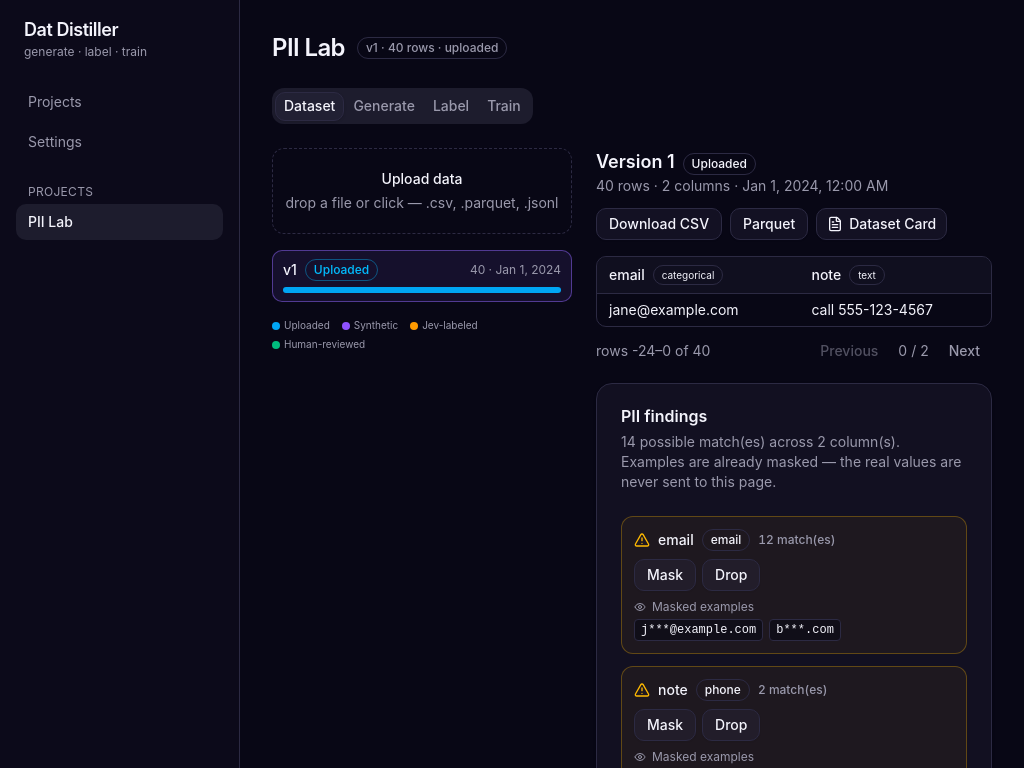
Test: PiiPanel — mask and drop › explains what dropping will do before it does it
Click the button "Drop" below "phone": (731, 725) [702,709,760,741]
(page scrolled)
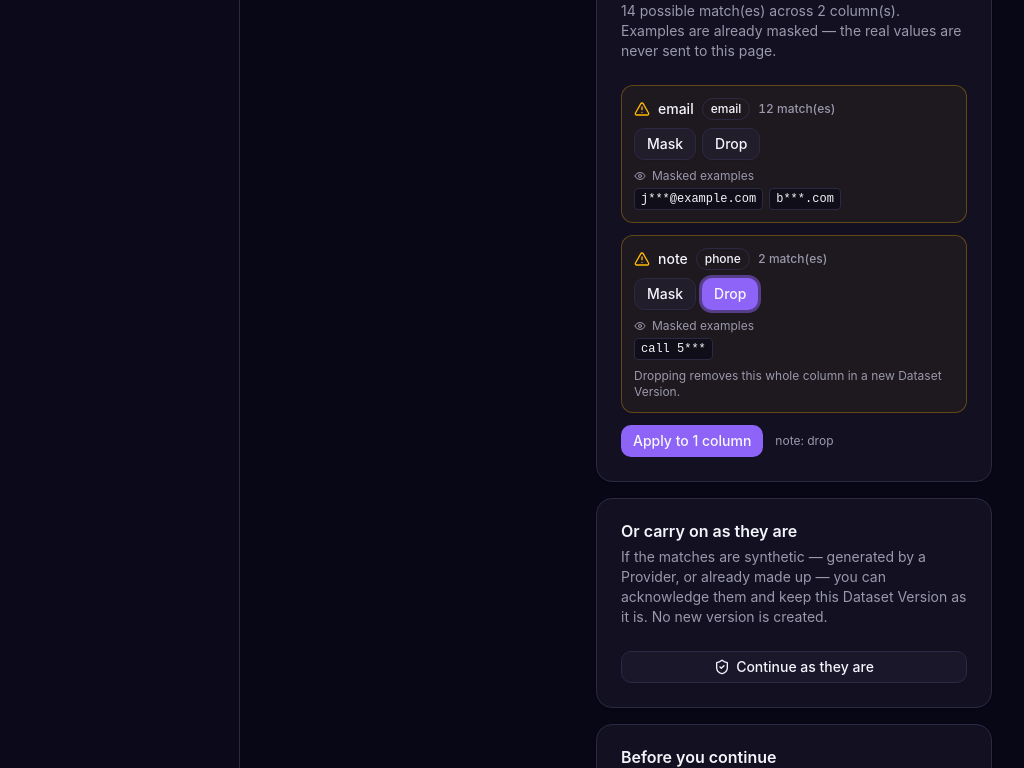
Expected: the text "Dropping removes this whole column in a new Dataset Version." is shown, [634,368,954,400]
